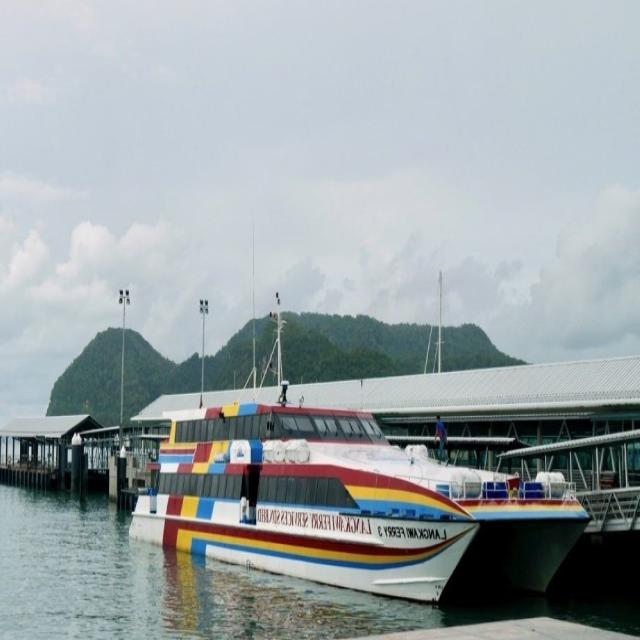houseboat: (122, 310, 580, 610)
